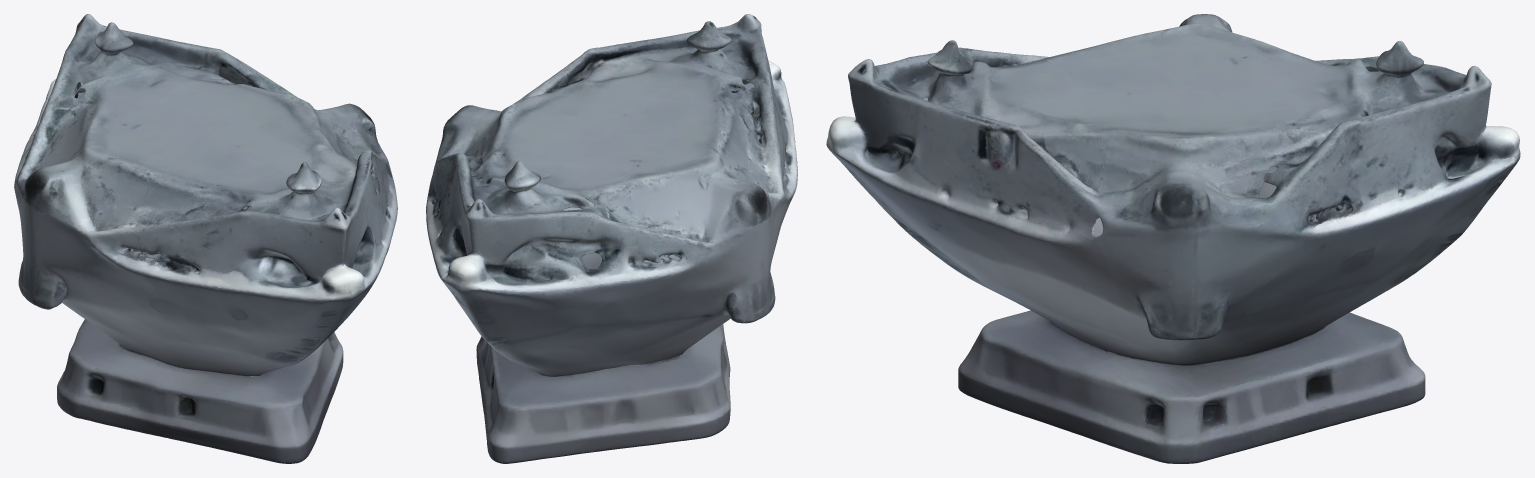
Rendered from lander_body.glb.
3 renders of one model, left to right at view 1: azimuth 30°, elevation 25°; view 2: azimuth 150°, elevation 25°; view 3: azimuth 270°, elevation 25°, orthographic. The views are drawn at different scales.
Parts seen in each view (by area): view 1: geometry_0; view 2: geometry_0; view 3: geometry_0.
Part boxes in pixels (x1,y1,x2,y2): geometry_0: [14, 14, 397, 463]; geometry_0: [426, 14, 797, 463]; geometry_0: [826, 14, 1520, 463].
Bounding box in the file's own units: 0.6429 × 0.5582 × 1.
1 material, 1 textured.
